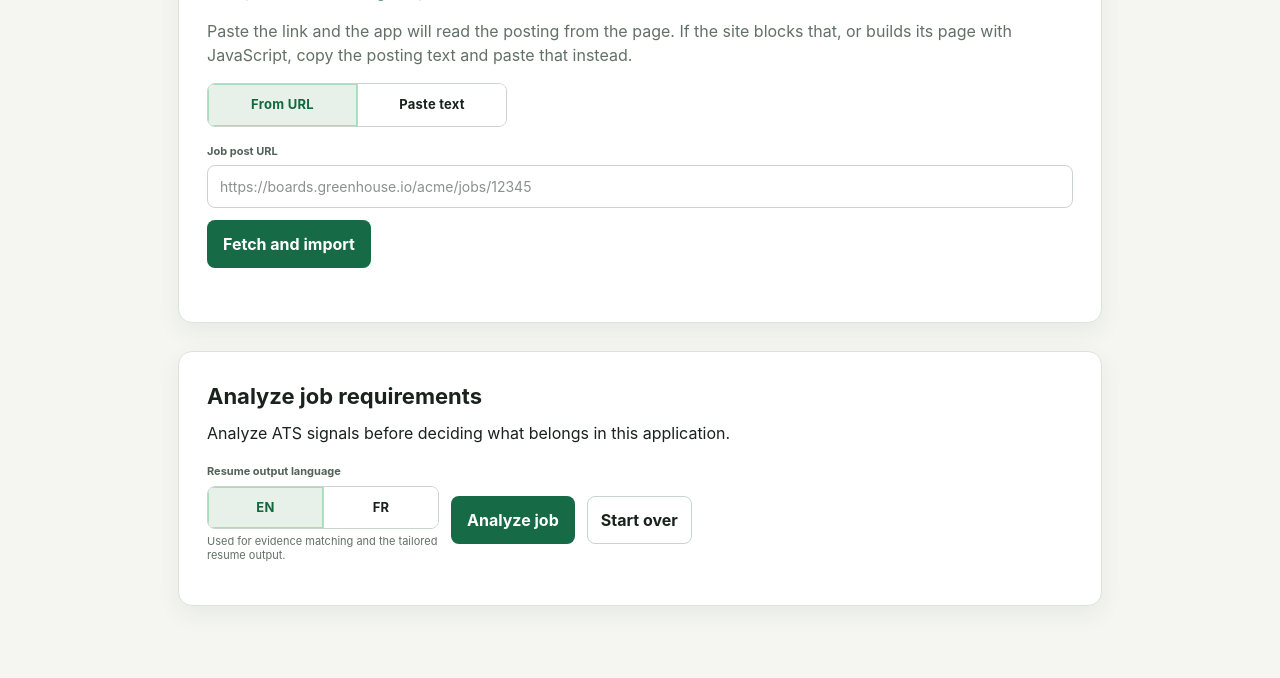
review-to-tailoring workflow › shows output language before analysis and opens an immediate focused pipeline
(page scrolled)
expect the element named "Resume output language" is shown: met, box x1=207 y1=486 x2=439 y2=529
What coordinates should you click on to do the following:
click the button "Analyze job"
I would click on:
 (513, 520)
Its box is x1=451 y1=496 x2=575 y2=544.
(page scrolled)
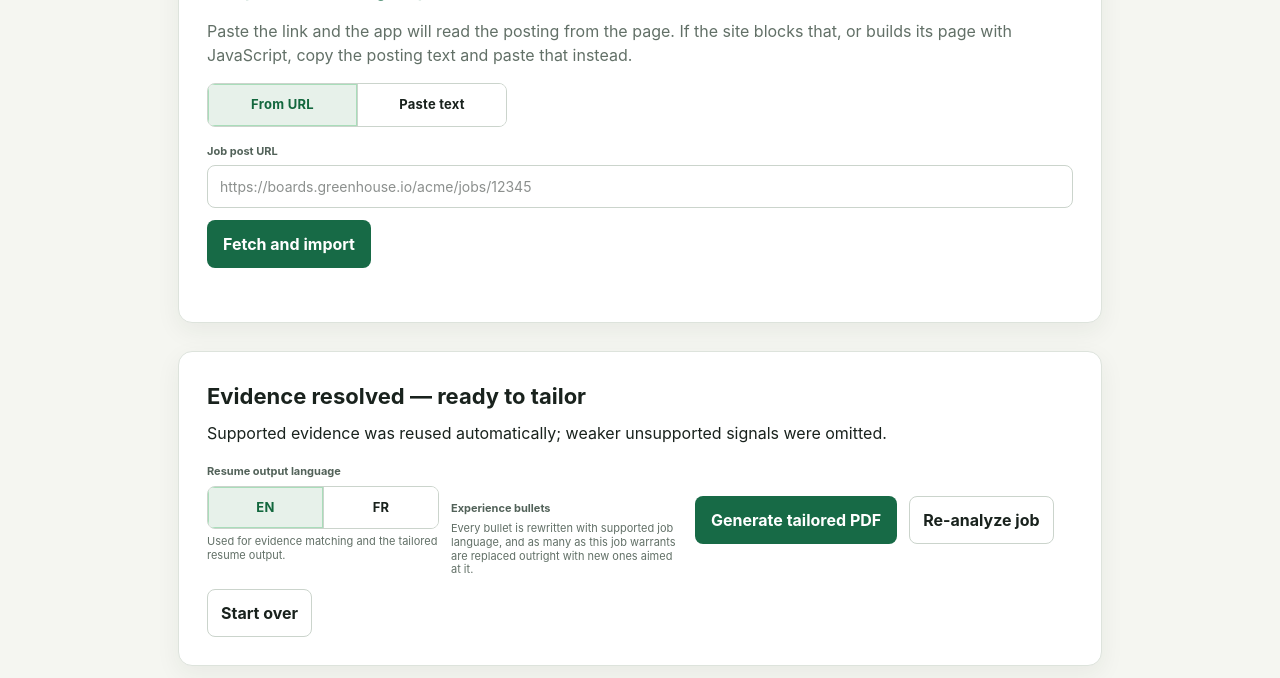
expect the element named "Resume output language" is shown: met, box x1=207 y1=486 x2=439 y2=529
What coordinates should you click on to do the following:
click the button "FR"
I would click on:
 (380, 507)
Its box is x1=323 y1=486 x2=438 y2=528.
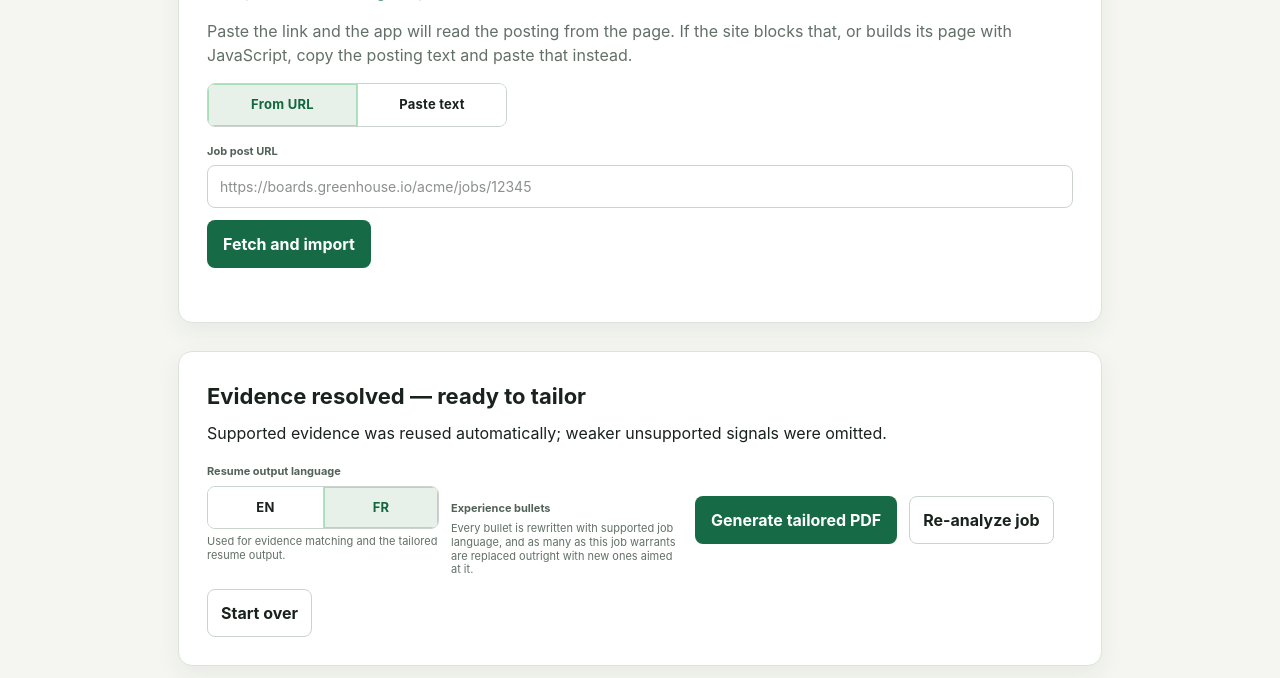
What coordinates should you click on to do the following:
click the button "Generate tailored PDF"
I would click on:
 (796, 520)
Its box is x1=695 y1=496 x2=897 y2=544.
(page scrolled)
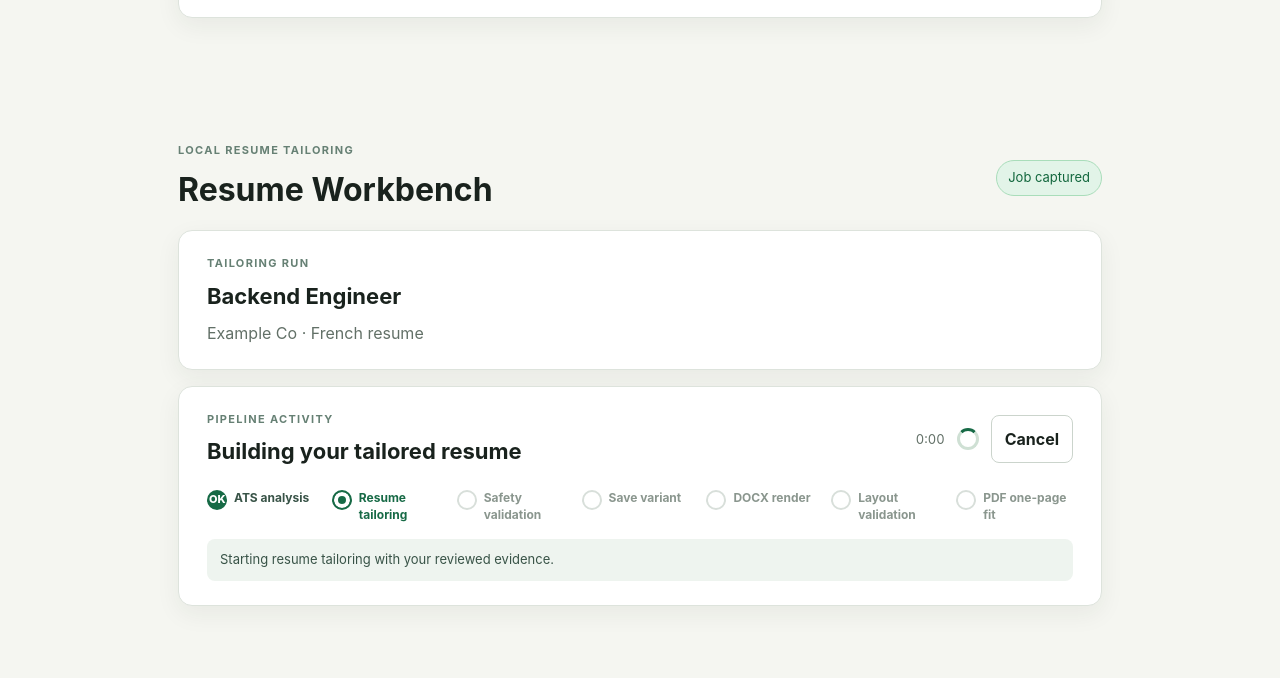
expect the element with test id "focused-pipeline" is shown: met, box x1=178 y1=230 x2=1102 y2=606
expect the text "Starting resume tailoring with your reviewed evidence." is shown: met, box x1=207 y1=539 x2=1073 y2=580
